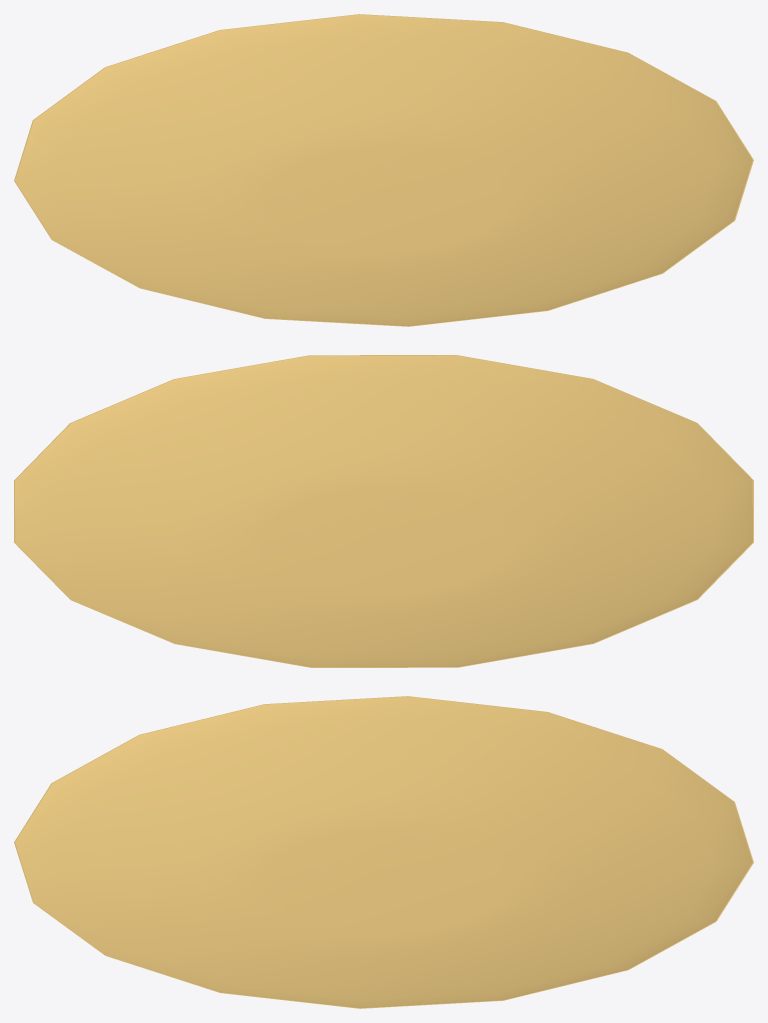
Rendered from Plate.FBX.
3 renders of one model, top to bottom at view 1: azimuth 30°, elevation 25°; view 2: azimuth 150°, elevation 25°; view 3: azimuth 270°, elevation 25°, orthographic.
Visible parts, largest first — view 1: Rectangle06; view 2: Rectangle06; view 3: Rectangle06.
Boxes of the visible parts, box(x1,y1,x2,y2) form: Rectangle06: box(14, 14, 753, 326); Rectangle06: box(14, 355, 753, 667); Rectangle06: box(14, 696, 753, 1008).
Bounding box in the file's own units: 303 × 13.07 × 303.
